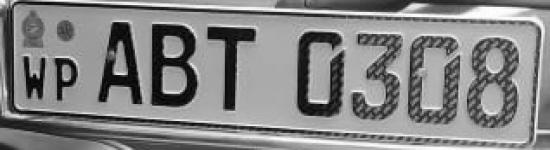0: (404, 26, 464, 130), (293, 25, 347, 125)
3: (347, 24, 408, 127)
8: (463, 32, 528, 135)
A: (89, 14, 148, 108)
B: (146, 17, 202, 113)
P: (52, 55, 82, 109)
T: (203, 21, 263, 121)
W: (17, 49, 52, 103)
